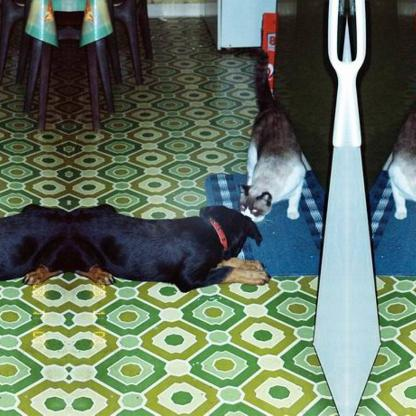Cat: (238, 46, 306, 223), (386, 45, 415, 223)
